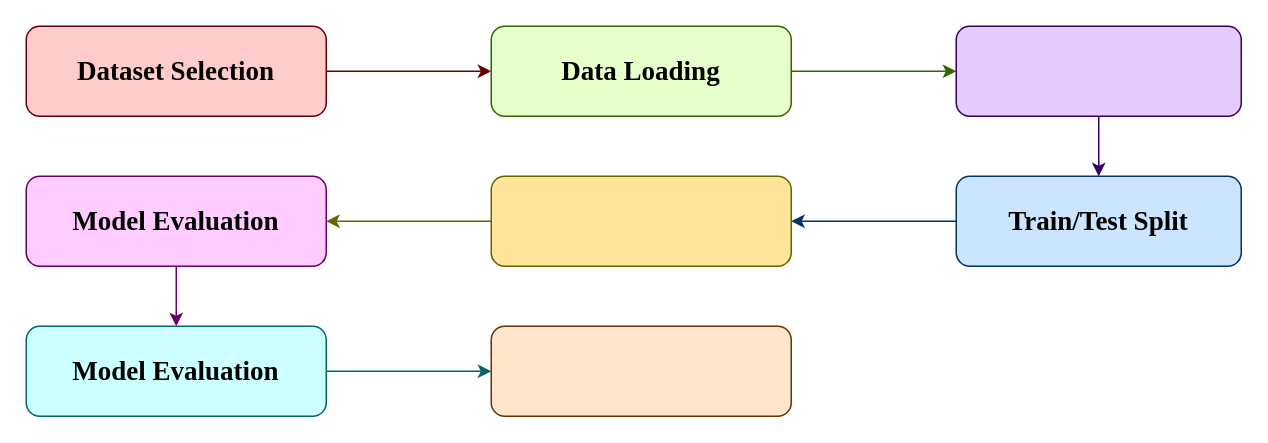
Image size: 1268x443. Some labels were removed from this diagram. The shapes that lost their labels are listed below. From the top down, each one's centre as x and y in pixels, then its label:
At (1098,70): "Data Preprocessing".
At (640,220): "Model Training".
At (640,370): "Results".
